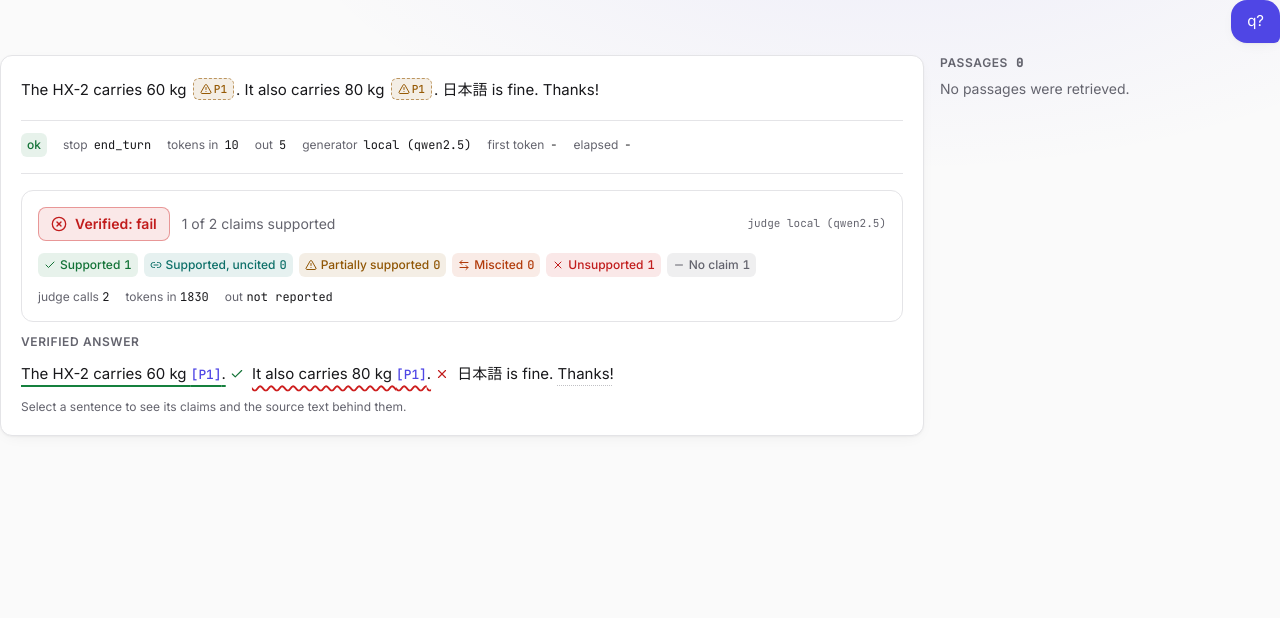
Test: TurnCard › verification_ok_renders_the_overall_verdict_and_underlined_sentences
Expected: the text "Verified: fail" is shown, left=38, top=206, right=170, bottom=240
Expected: the element with test id "sentence-list" shows "日本語 is fine.", left=453, top=364, right=558, bottom=382
Click the button "It also carries 80 kg [P1]." at (352, 373), box left=252, top=364, right=453, bottom=382
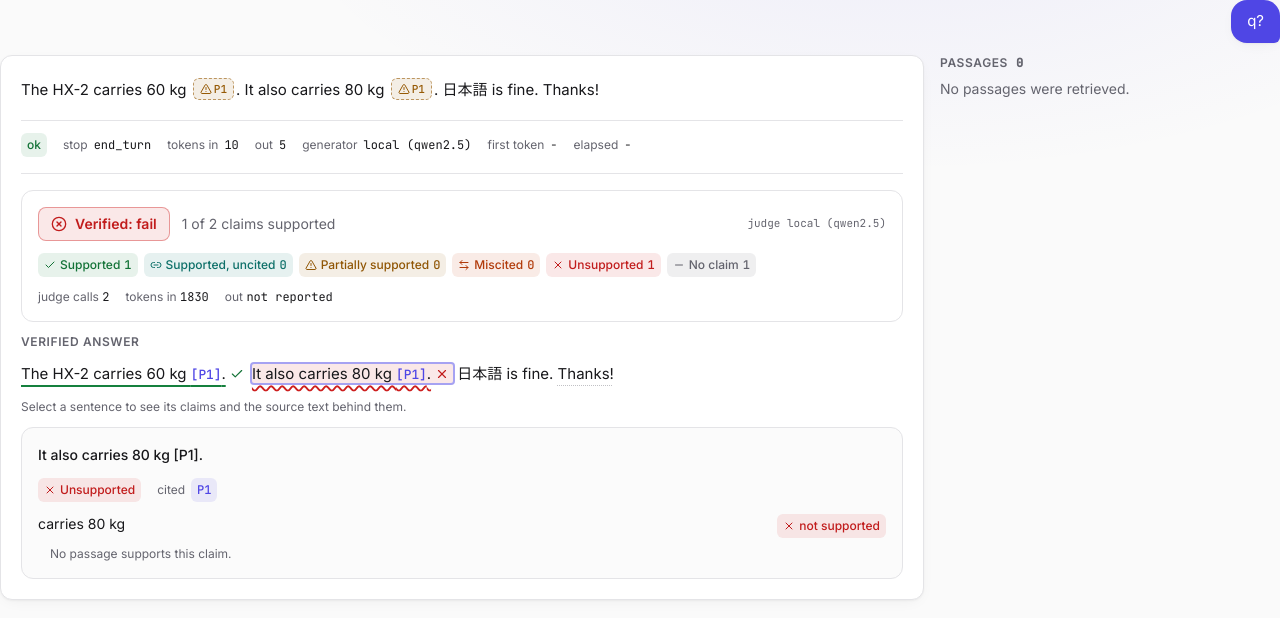
Expected: the text "carries 80 kg" is shown, left=38, top=515, right=125, bottom=532
